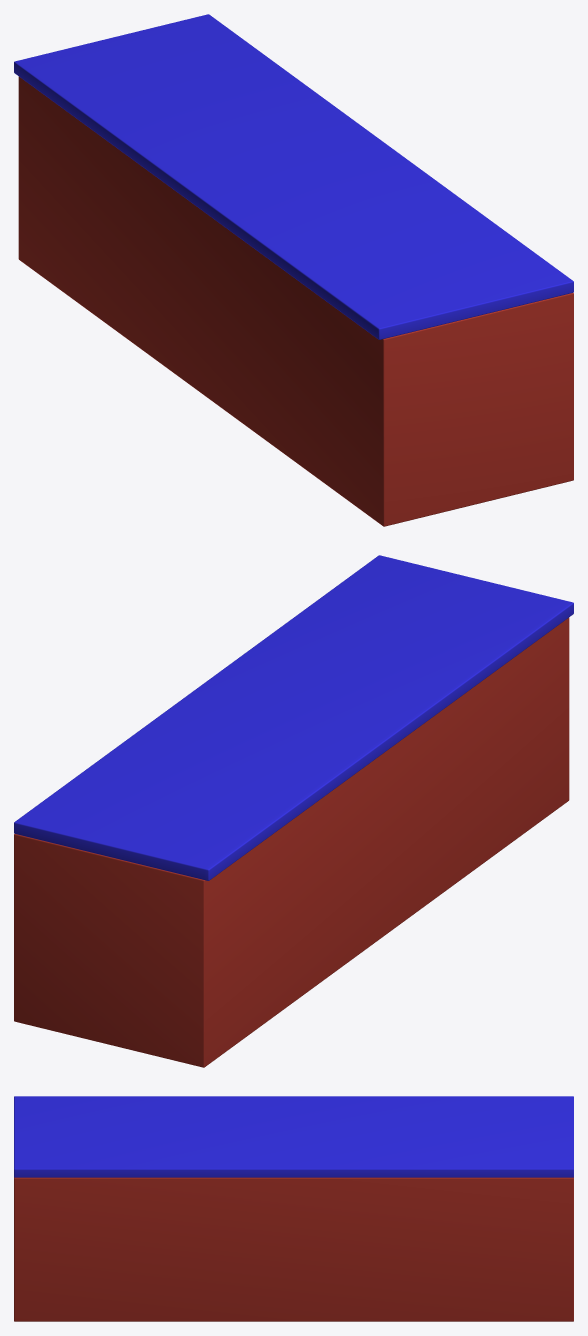
File: Bench.fbx
3 views of the same model, one above another, from view 1: azimuth 30°, elevation 25°; view 2: azimuth 150°, elevation 25°; view 3: azimuth 270°, elevation 25° (orthographic). The views are drawn at different scales.
Parts seen in each view (by area): view 1: Bench; view 2: Bench; view 3: Bench.
Boxes of the visible parts, x1,y1,x2,y2 form: Bench: (14, 14, 573, 526); Bench: (14, 555, 573, 1067); Bench: (14, 1096, 573, 1321).
Bounding box in the file's own units: 0.9221 × 0.9 × 2.99.
